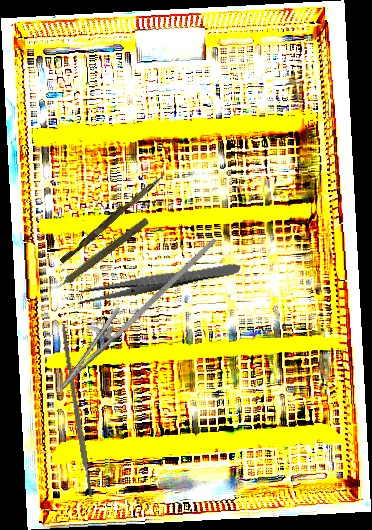Dressing Forceps: (76, 258, 242, 306)
Handpiece: (45, 213, 151, 299)
Needle Holder: (46, 211, 218, 407)
Pusher: (59, 168, 167, 267)
Scalpel Handle: (59, 323, 94, 498)
